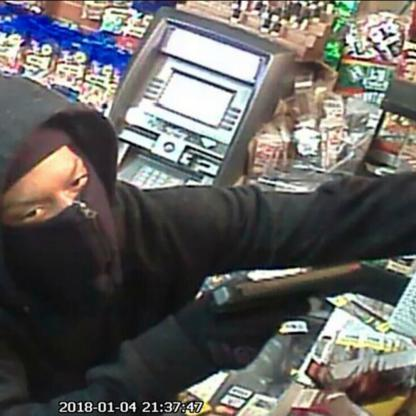pistols: (192, 259, 378, 349)
